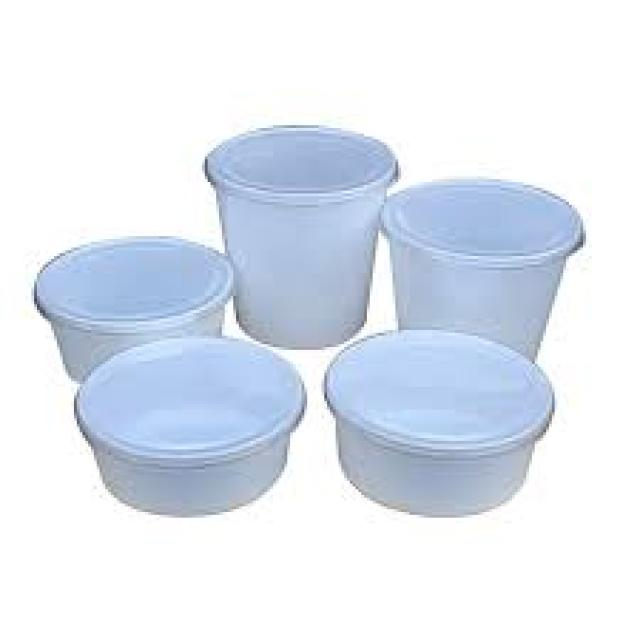disposable: (320, 326, 559, 524), (70, 335, 324, 518), (5, 213, 243, 384)
